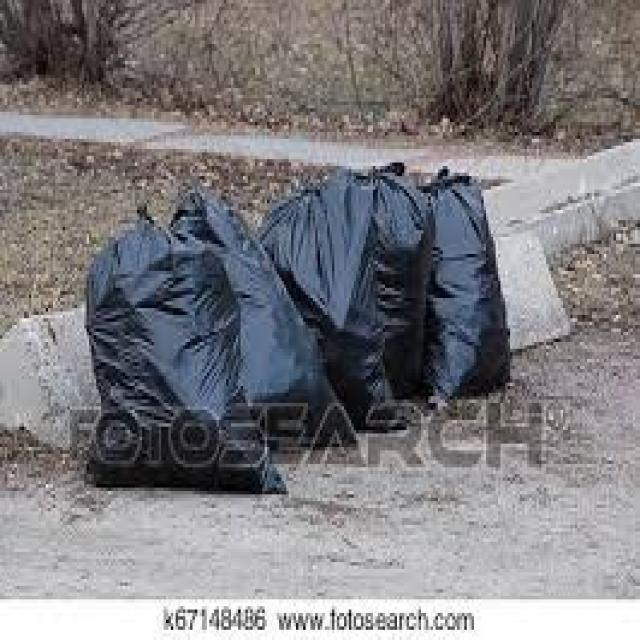garbage: (77, 159, 517, 491)
